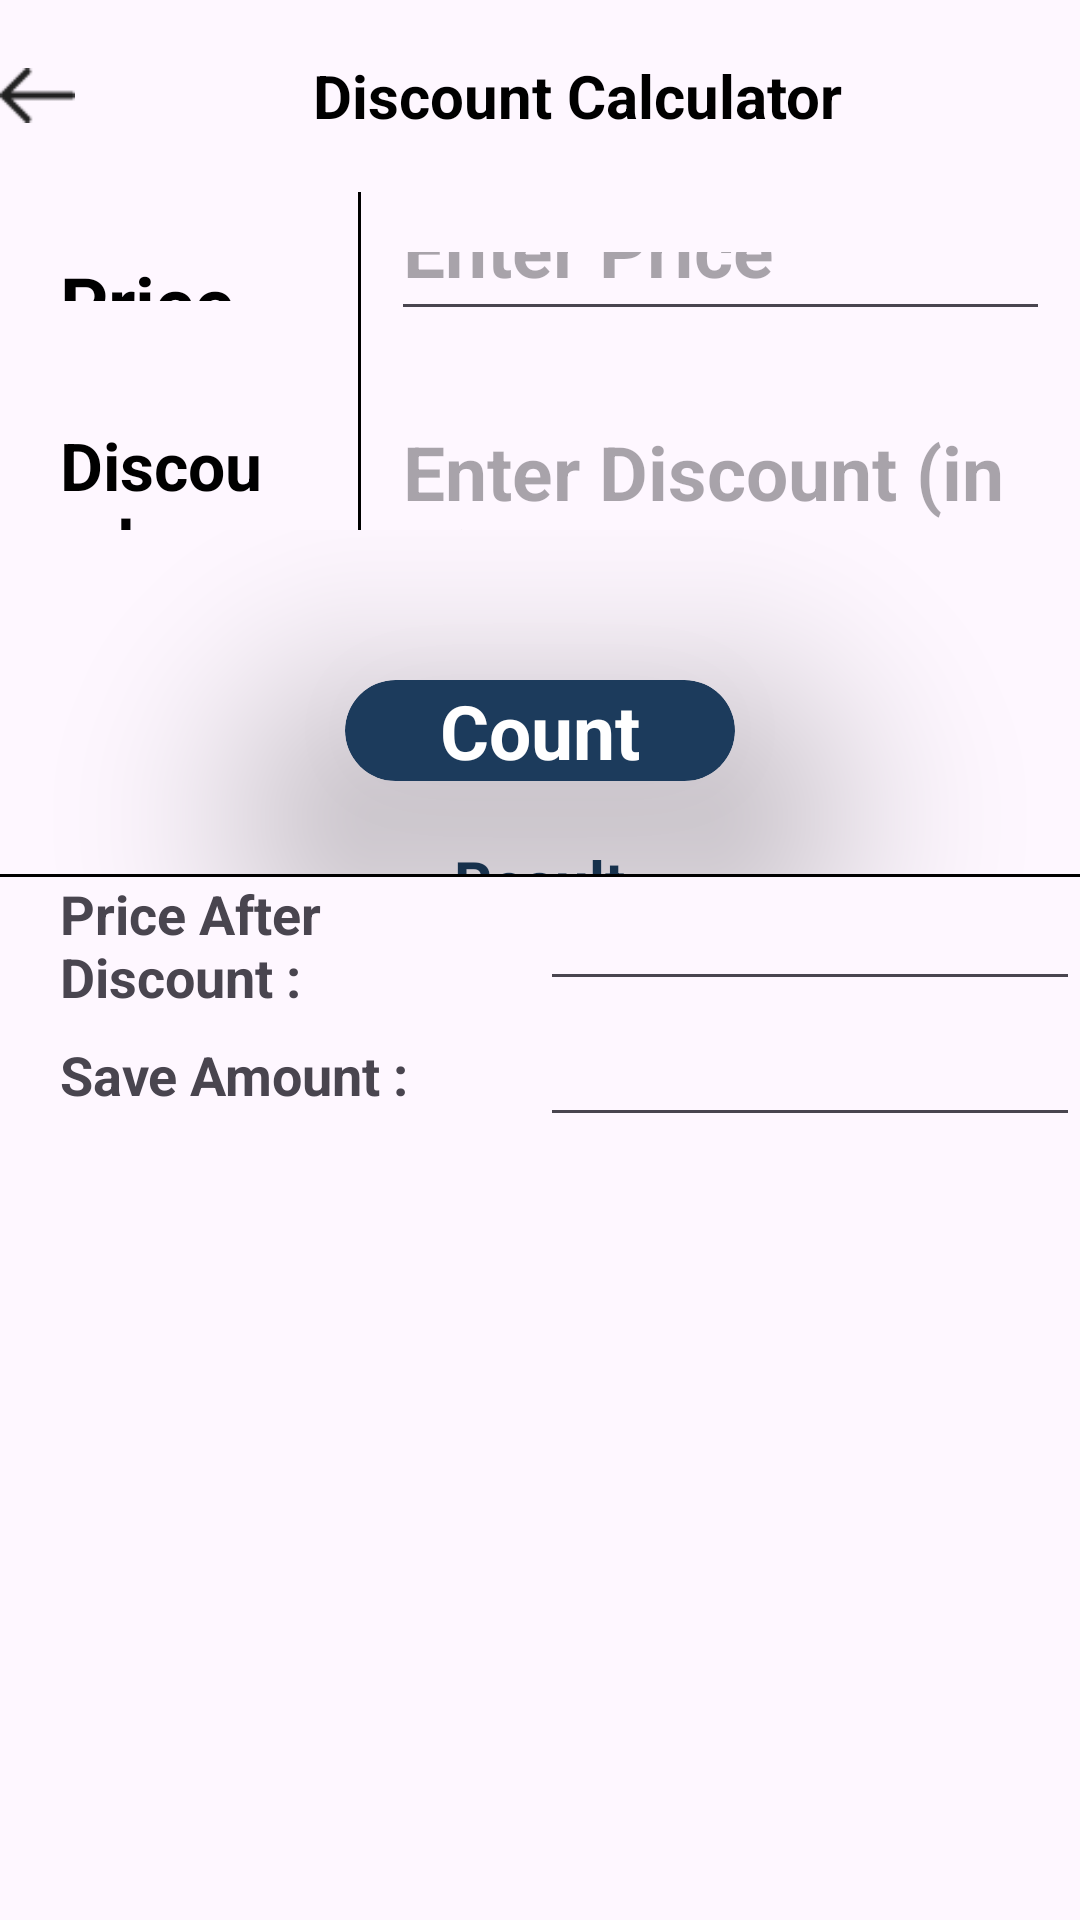

Icon bounding boxes for this 1080×1920 phone screenshot, format BBox(x1, y1, x2, y2):
backarro: BBox(0, 68, 75, 123)
